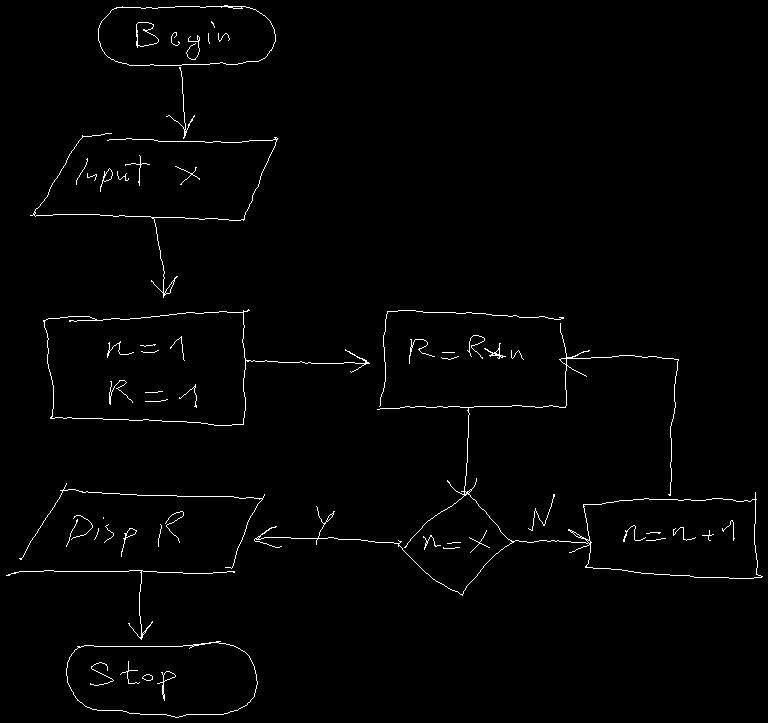arrow: (559, 350, 678, 495), (254, 526, 401, 547), (246, 349, 369, 372), (447, 408, 476, 495), (151, 218, 177, 297), (166, 67, 194, 138), (510, 529, 591, 552), (128, 571, 152, 639)
data: (6, 483, 264, 575), (30, 133, 277, 220)
decision: (398, 491, 513, 595)
process: (43, 309, 249, 425), (377, 310, 566, 409), (583, 492, 762, 578)
terminator: (66, 641, 257, 717), (98, 5, 275, 65)
text: (107, 336, 196, 407), (66, 511, 183, 556), (76, 155, 199, 191), (136, 21, 229, 59), (90, 661, 175, 700), (409, 335, 523, 363), (623, 520, 734, 541), (423, 530, 489, 552), (528, 494, 554, 530), (316, 506, 334, 544)
